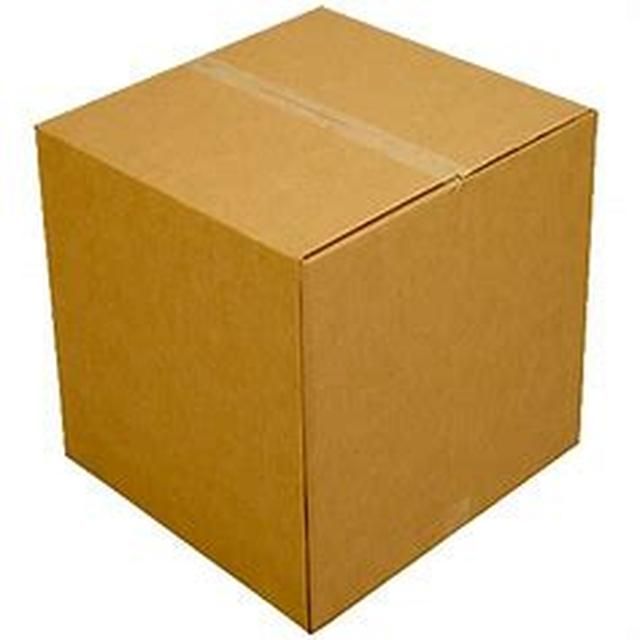box: (49, 20, 624, 631)
